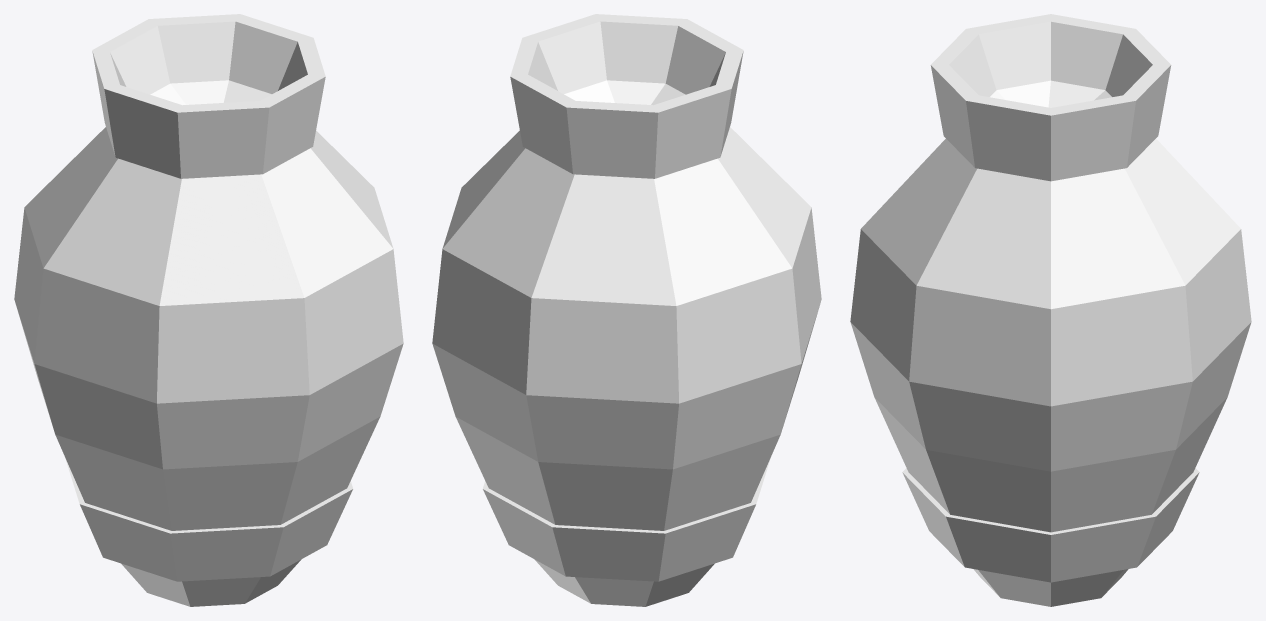
File: Desertjar2.glb
3 renders of one model, left to right at view 1: azimuth 30°, elevation 25°; view 2: azimuth 150°, elevation 25°; view 3: azimuth 270°, elevation 25°, orthographic.
Visible parts, largest first — view 1: DesertJar02; view 2: DesertJar02; view 3: DesertJar02.
Boxes of the visible parts, x1=… form: DesertJar02: x1=14, y1=14, x2=403, y2=606; DesertJar02: x1=432, y1=14, x2=821, y2=606; DesertJar02: x1=850, y1=14, x2=1251, y2=606.
Size of the model in its own units: 1.11 by 1.56 by 1.11.
1 material, 1 textured.
